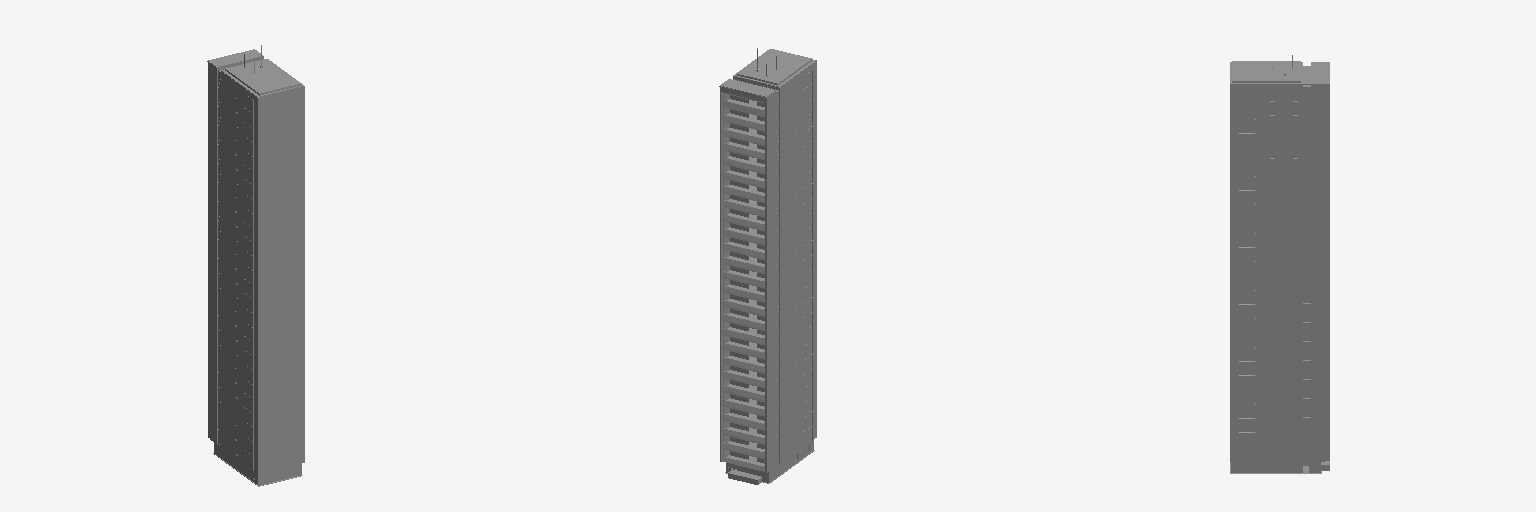
The model's file is ResidentialBuildings010.obj.
3 renders of one model, left to right at view 1: azimuth 30°, elevation 25°; view 2: azimuth 150°, elevation 25°; view 3: azimuth 270°, elevation 25°, orthographic.
Parts seen in each view (by area): view 1: Residential_Buildings_010_Cube.005; view 2: Residential_Buildings_010_Cube.005; view 3: Residential_Buildings_010_Cube.005.
Boxes of the visible parts, x1,y1,x2,y2 form: Residential_Buildings_010_Cube.005: [207, 45, 304, 486]; Residential_Buildings_010_Cube.005: [719, 48, 816, 484]; Residential_Buildings_010_Cube.005: [1230, 55, 1329, 473].
Bounding box in the file's own units: 12.59 × 105 × 23.1.